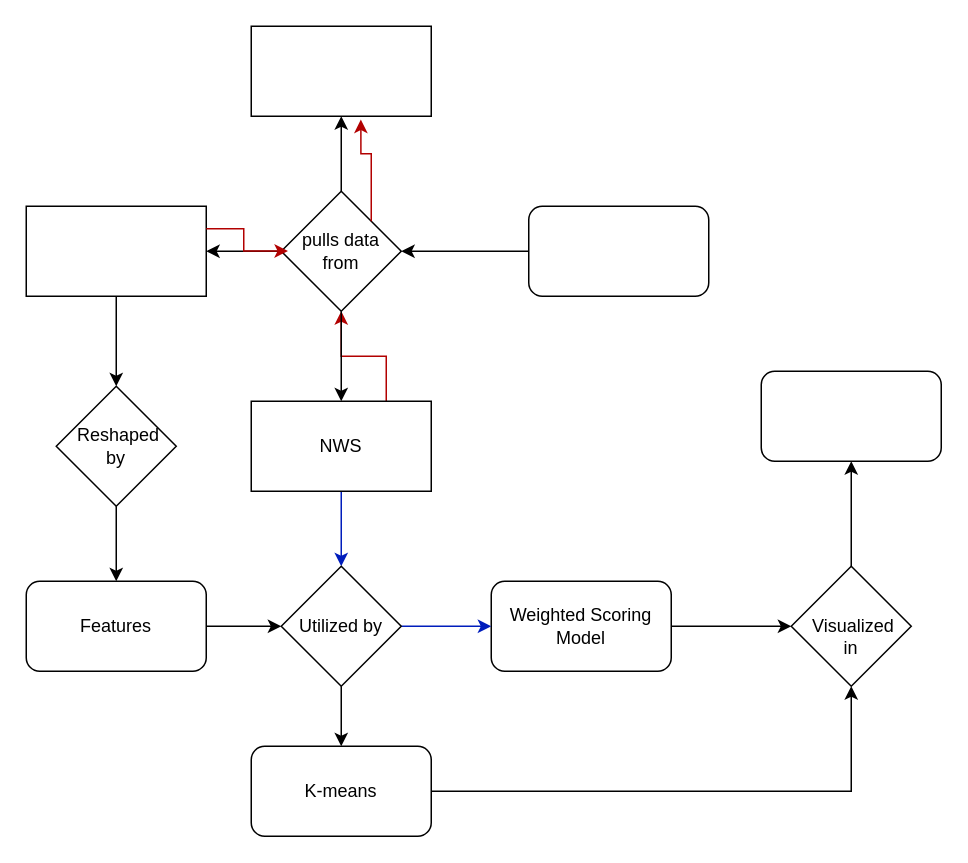
The diagram is 968 pixels wide and 863 high, and some of its shapes have lost their labels. The box of each missing label's shape, as (x1, y1, x2, y2) in pixels:
app: (760, 370, 941, 461)
locations: (250, 25, 431, 116)
main: (527, 205, 709, 296)
OpenMeteo: (25, 205, 206, 296)
